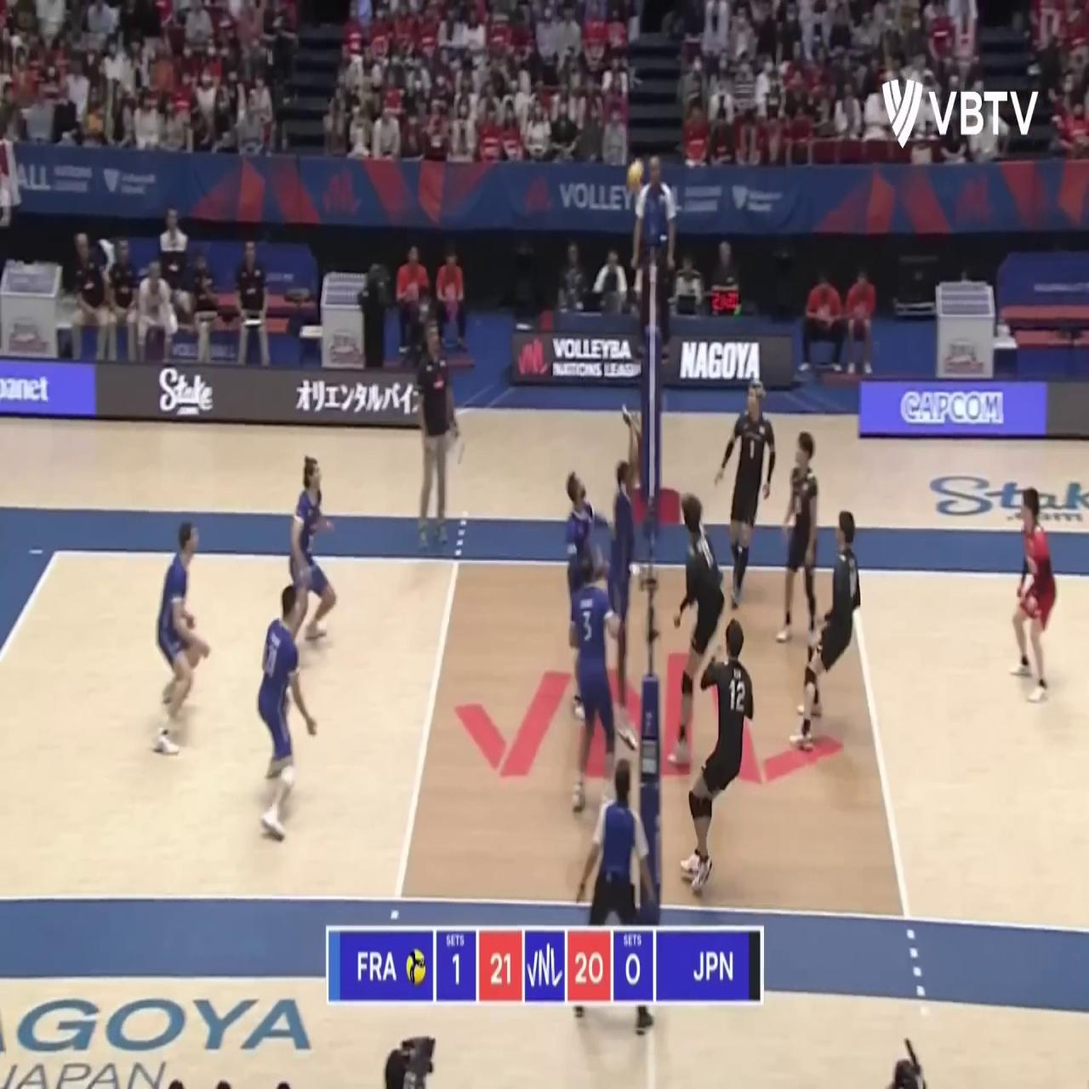ball: (625, 158, 644, 194)
